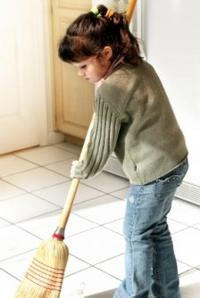person without safety: (51, 5, 191, 298)
